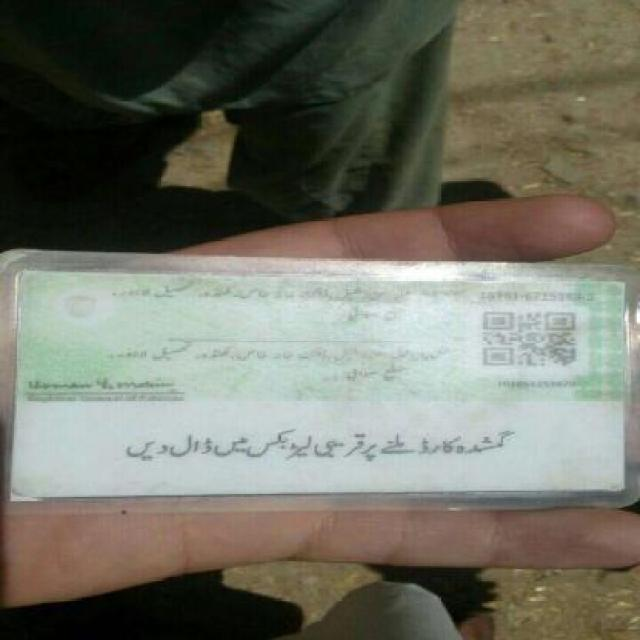Back: (12, 263, 628, 502)
